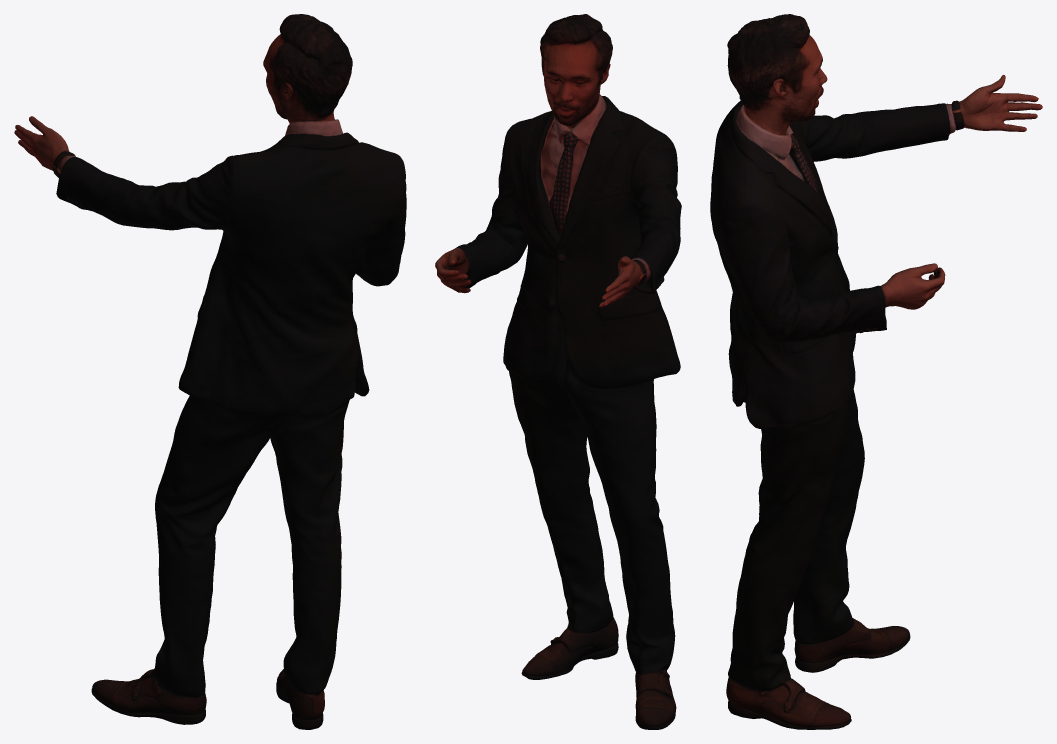
The model's file is man5.glb.
The picture shows the model from 3 angles, left to right: view 1: azimuth 30°, elevation 25°; view 2: azimuth 150°, elevation 25°; view 3: azimuth 270°, elevation 25°; orthographic projection. The views are drawn at different scales.
Visible parts, largest first — view 1: 00256_Daud008; view 2: 00256_Daud008; view 3: 00256_Daud008.
Boxes of the visible parts, left/top/right/bottom form: 00256_Daud008: left=14, top=14, right=406, bottom=729; 00256_Daud008: left=435, top=14, right=681, bottom=729; 00256_Daud008: left=710, top=14, right=1042, bottom=729.
Bounding box in the file's own units: 2.61 × 6.53 × 2.81.
Materials: 1 (1 with a texture image).
